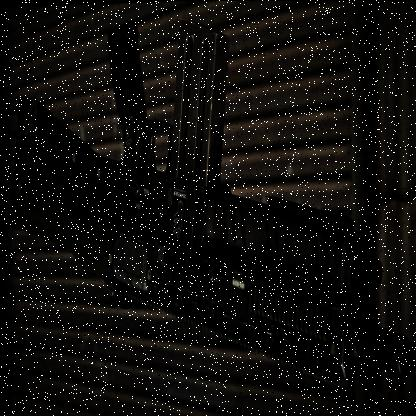rifle: (11, 18, 411, 402)
